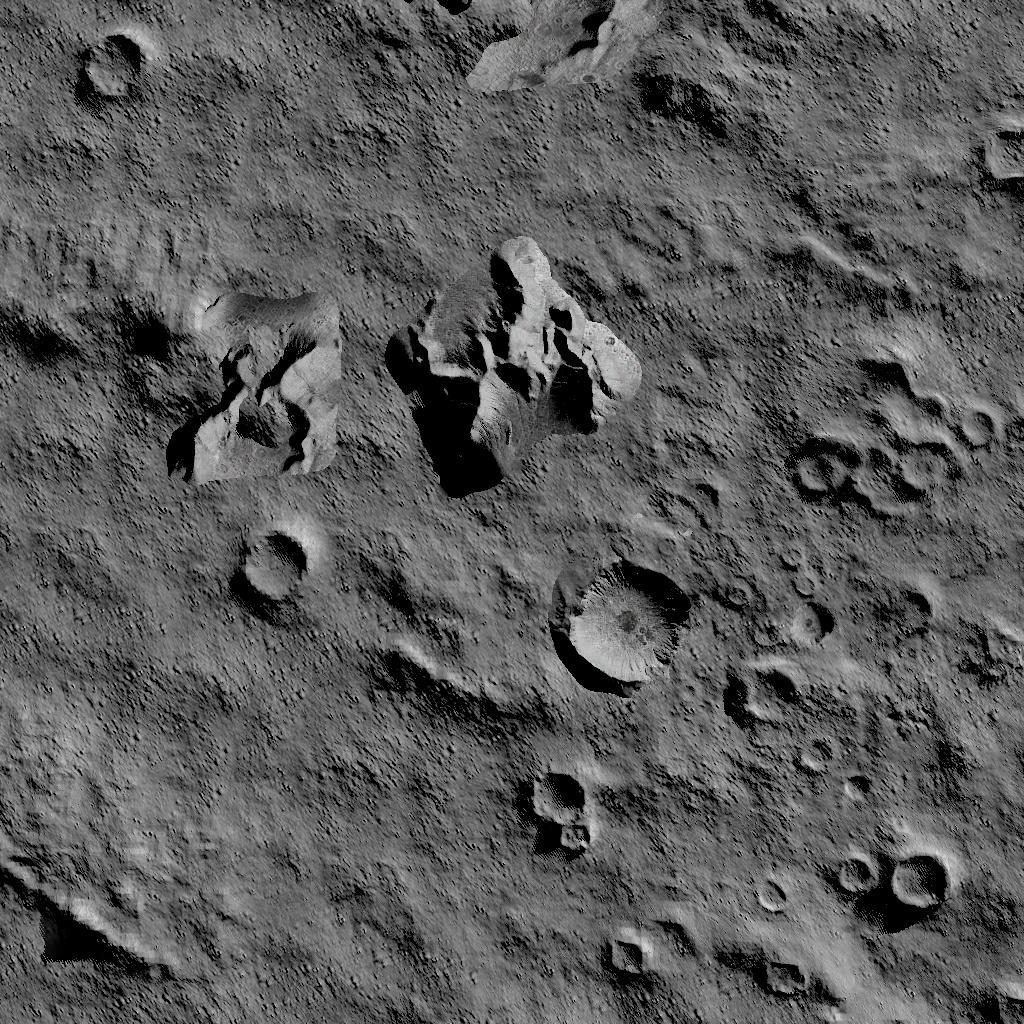Boulders: (385, 232, 645, 494), (131, 272, 341, 484), (425, 0, 669, 96)
Crater: (786, 354, 1002, 513), (557, 556, 695, 692), (837, 836, 951, 914), (227, 524, 320, 606), (521, 764, 599, 854), (75, 28, 152, 106), (726, 660, 808, 727), (749, 950, 818, 1000), (977, 124, 1023, 188), (885, 586, 936, 638), (781, 594, 831, 646), (598, 928, 647, 980), (981, 976, 1024, 1024), (753, 876, 796, 912), (799, 738, 837, 774)
Plan surface: (3, 616, 376, 864), (187, 876, 591, 1024), (165, 0, 371, 262), (379, 105, 693, 222), (3, 368, 119, 606)
